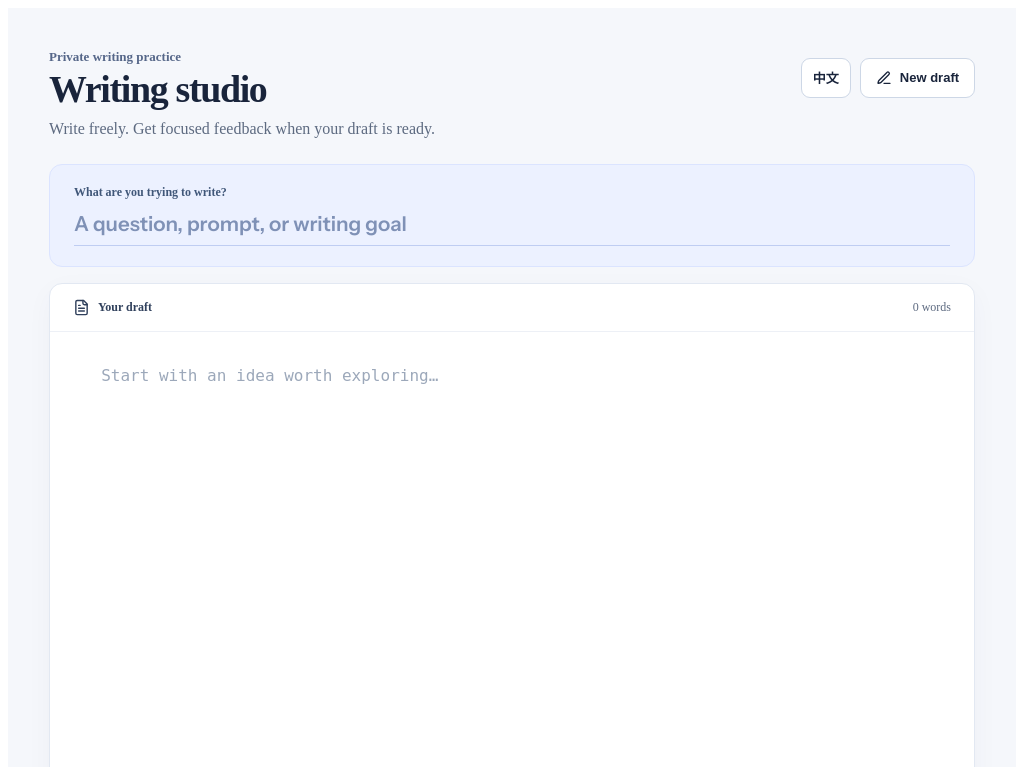
it: Practice studio › can show the Chinese interface without changing the essay language
The width and height of the screenshot is (1024, 767).
Expected: the field labelled "What are you trying to write?" is shown, [74,208,950,246]
Step 1. Click the button with aria-label "Switch interface language" → x=826, y=78, box [801,58,851,98]
(page scrolled)
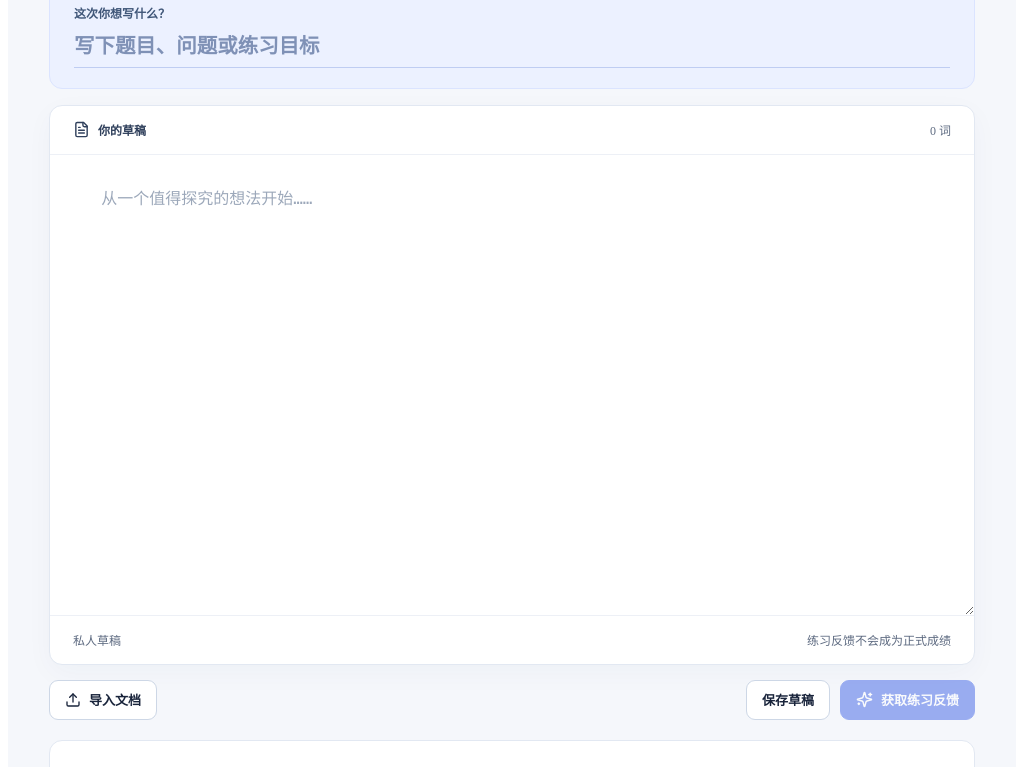
Expected: the field labelled "这次你想写什么？" is shown, [74,30,950,68]
Expected: the text box named "文章草稿" is shown, [50,155,974,615]
